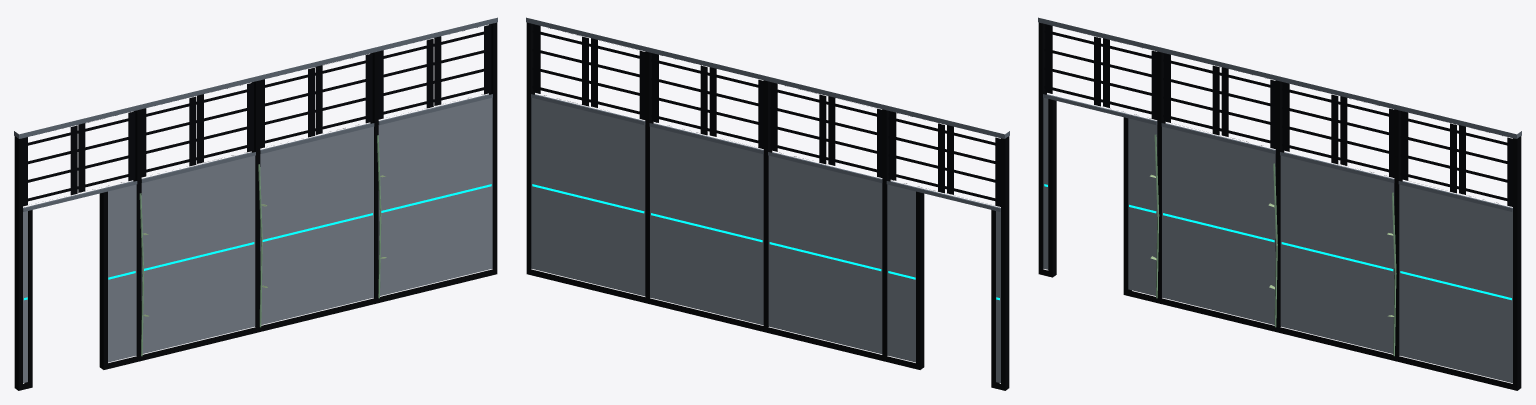
The model's file is tt_axe_partition_gate.glb.
3 views of the same model, side by side, from view 1: azimuth 30°, elevation 25°; view 2: azimuth 150°, elevation 25°; view 3: azimuth 330°, elevation 25° (orthographic).
Visible parts, largest first — view 1: Part_Acoustic, Part_Net_Scissor, Part_Posts, Part_Sill, Part_TopRail, Part_MidRail, Vine_Stems, Part_Reveal; view 2: Part_Acoustic, Part_Net_Scissor, Part_Posts, Part_Sill, Part_TopRail, Part_MidRail, Part_Reveal; view 3: Part_Acoustic, Part_Net_Scissor, Part_Posts, Part_Sill, Part_TopRail, Part_MidRail, Vine_Stems, Part_Reveal.
Boxes of the visible parts, x1,y1,x2,y2 form: Part_Acoustic: [23, 97, 492, 383]; Part_Net_Scissor: [23, 24, 491, 206]; Part_Posts: [14, 22, 497, 388]; Part_Sill: [14, 268, 497, 390]; Part_TopRail: [14, 17, 497, 138]; Part_MidRail: [23, 94, 492, 211]; Vine_Stems: [139, 135, 381, 356]; Part_Reveal: [24, 184, 491, 300]; Part_Acoustic: [531, 97, 1000, 383]; Part_Net_Scissor: [532, 24, 1000, 206]; Part_Posts: [526, 22, 1009, 388]; Part_Sill: [526, 268, 1009, 390]; Part_TopRail: [526, 17, 1009, 138]; Part_MidRail: [531, 94, 1000, 211]; Part_Reveal: [532, 184, 999, 300]; Part_Acoustic: [1043, 97, 1512, 383]; Part_Net_Scissor: [1044, 24, 1512, 206]; Part_Posts: [1038, 22, 1521, 384]; Part_Sill: [1038, 268, 1521, 390]; Part_TopRail: [1038, 17, 1521, 138]; Part_MidRail: [1043, 94, 1512, 211]; Vine_Stems: [1154, 134, 1396, 356]; Part_Reveal: [1044, 184, 1511, 300].
Size of what is drawn, in the model's own units: 6.75 by 3.46 by 0.3455.
Materials: 7 (3 with a texture image).
